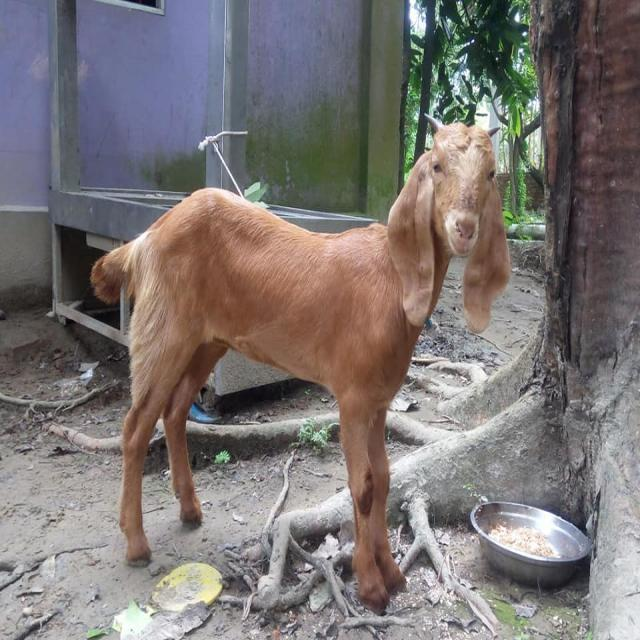Goat: (89, 111, 511, 614)
